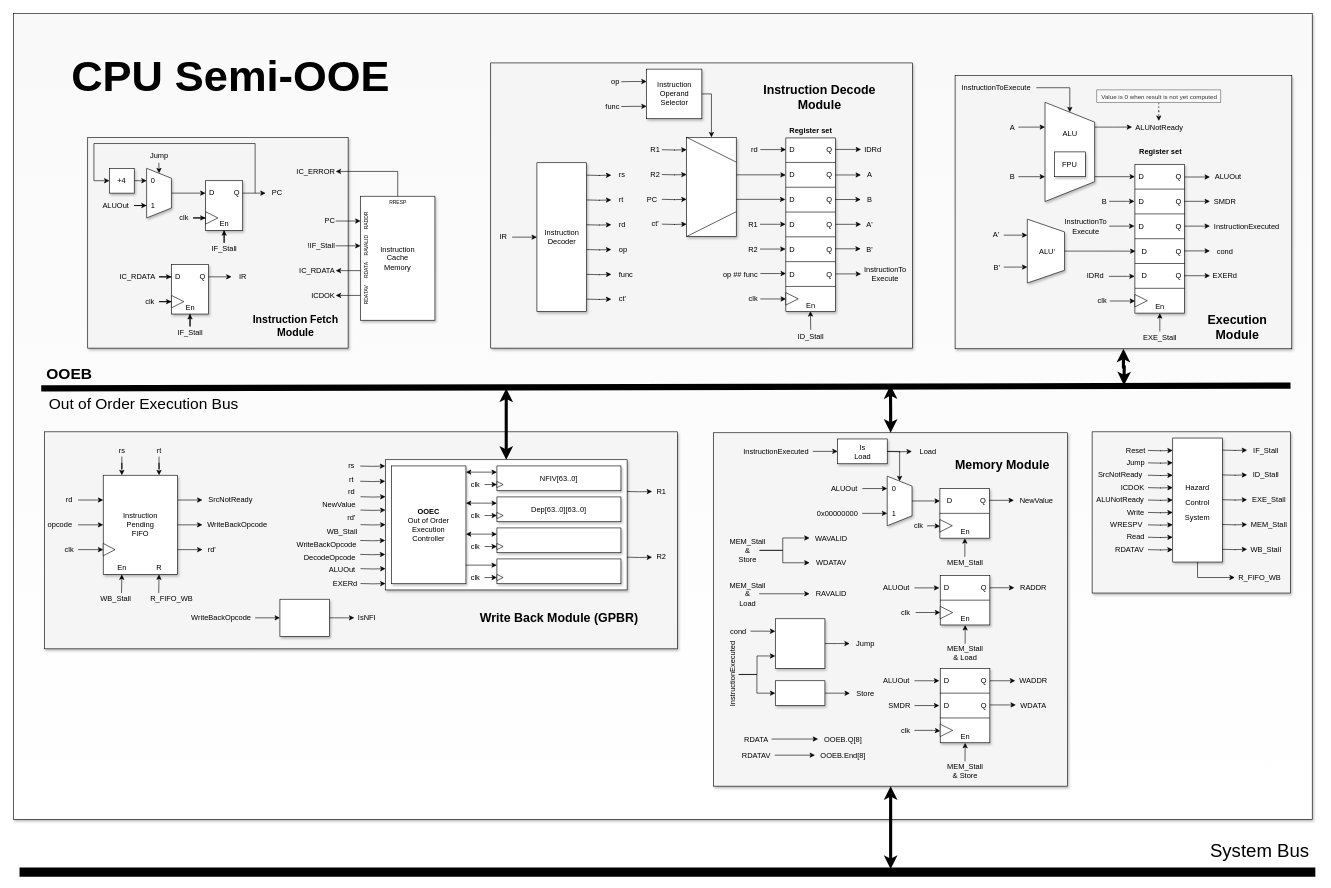
Some shapes in this 1331 by 888 pixel diagram are drawn without their labels. Each missing label, with the centre of its shape:
"4 In 2 Out Mux" goes at point (712, 187).
"GPBR[63..0][31..0]" goes at point (559, 572).
"GPBRaux[63..0][31..0]" goes at point (559, 541).
"Is a Not Finished Instruction" goes at point (305, 618).
"Is Jump" goes at point (800, 644).
"Is Store" goes at point (800, 694).
